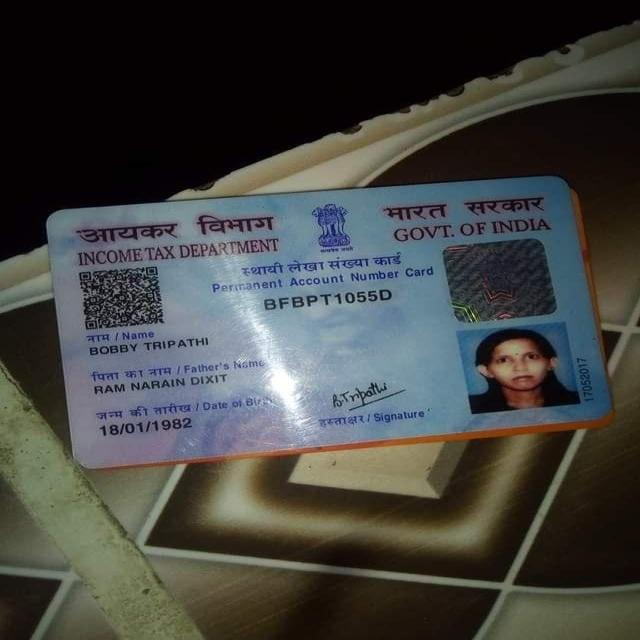pan_card: (46, 182, 601, 462)
